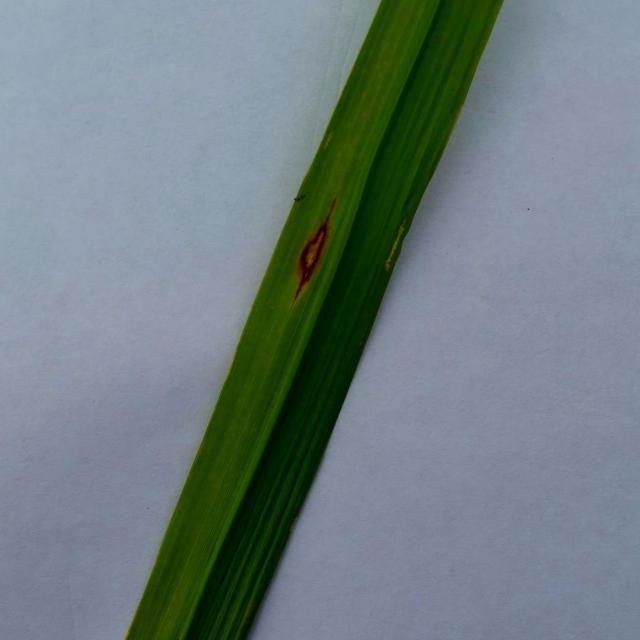Rice_Blast: (282, 188, 348, 294)
